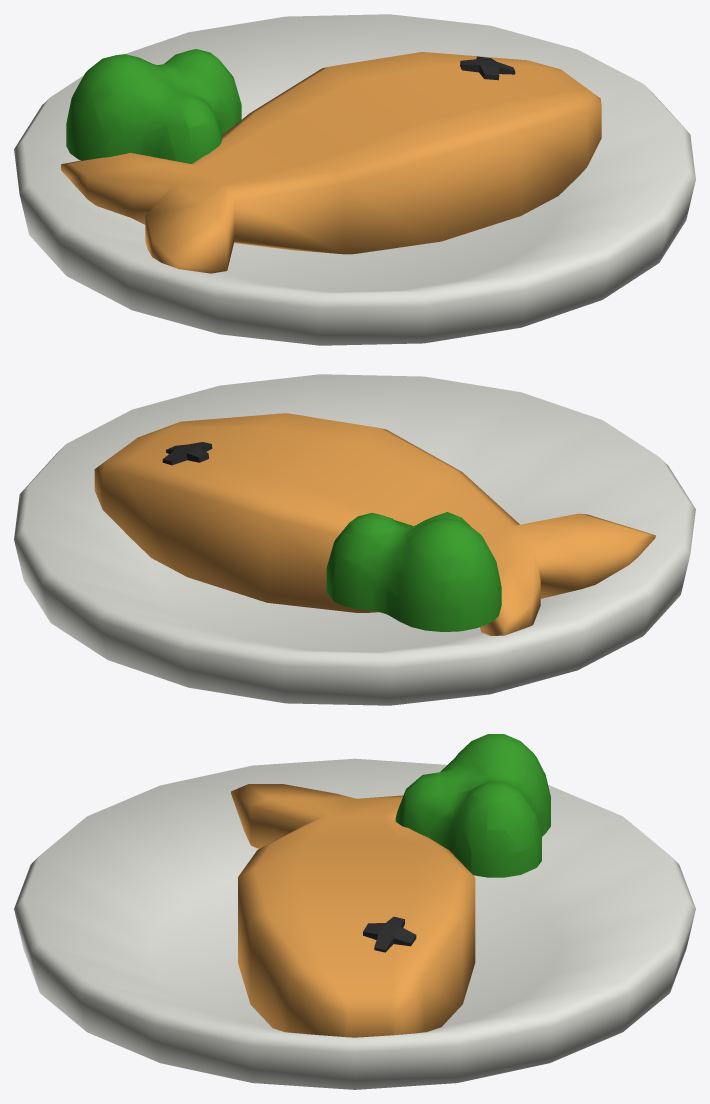
The model's file is fish.fbx.
3 views of the same model, one above another, from view 1: azimuth 30°, elevation 25°; view 2: azimuth 150°, elevation 25°; view 3: azimuth 270°, elevation 25° (orthographic).
Visible parts, largest first — view 1: Fish; view 2: Fish; view 3: Fish.
Boxes of the visible parts, left/top/right/bottom form: Fish: left=14, top=14, right=695, bottom=345; Fish: left=14, top=374, right=695, bottom=705; Fish: left=14, top=734, right=695, bottom=1089.
Size of the model in its own units: 58.75 by 58.75 by 15.69.
